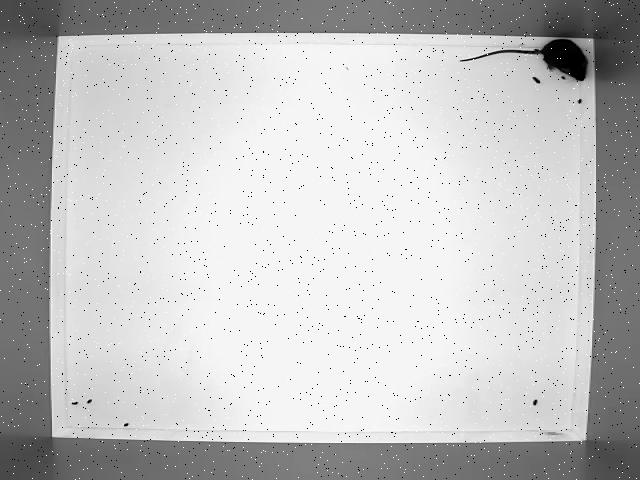Tikus: (454, 36, 596, 84)
